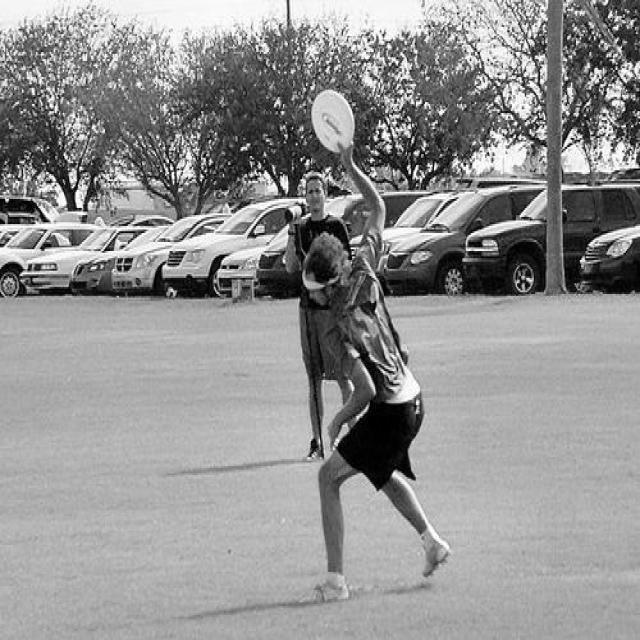vehicle: (461, 181, 640, 297), (376, 180, 544, 300), (257, 192, 440, 300), (163, 196, 306, 300), (112, 213, 236, 297), (348, 190, 466, 260), (0, 223, 102, 298), (72, 224, 164, 292), (217, 224, 290, 294), (578, 222, 640, 295)
